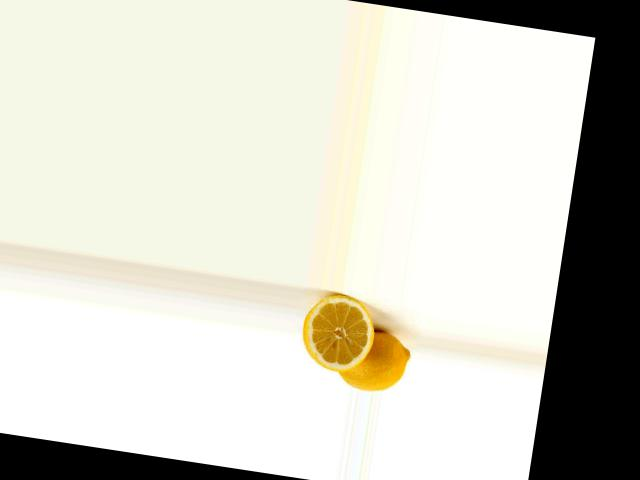lemon: (333, 318, 416, 396)
